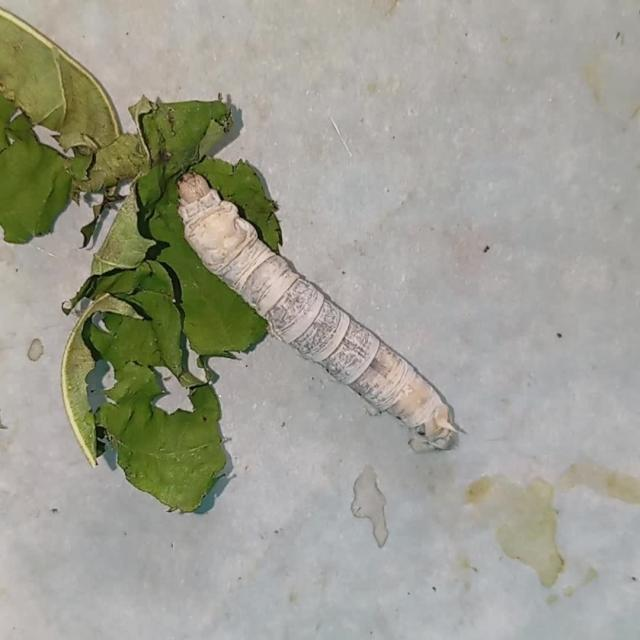Grasserie: (167, 154, 464, 459)
